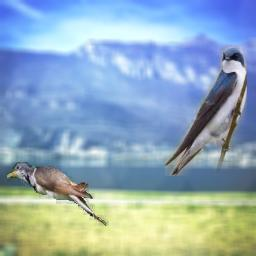Cuckoo: (7, 162, 109, 228)
Swallow: (165, 46, 247, 176)
